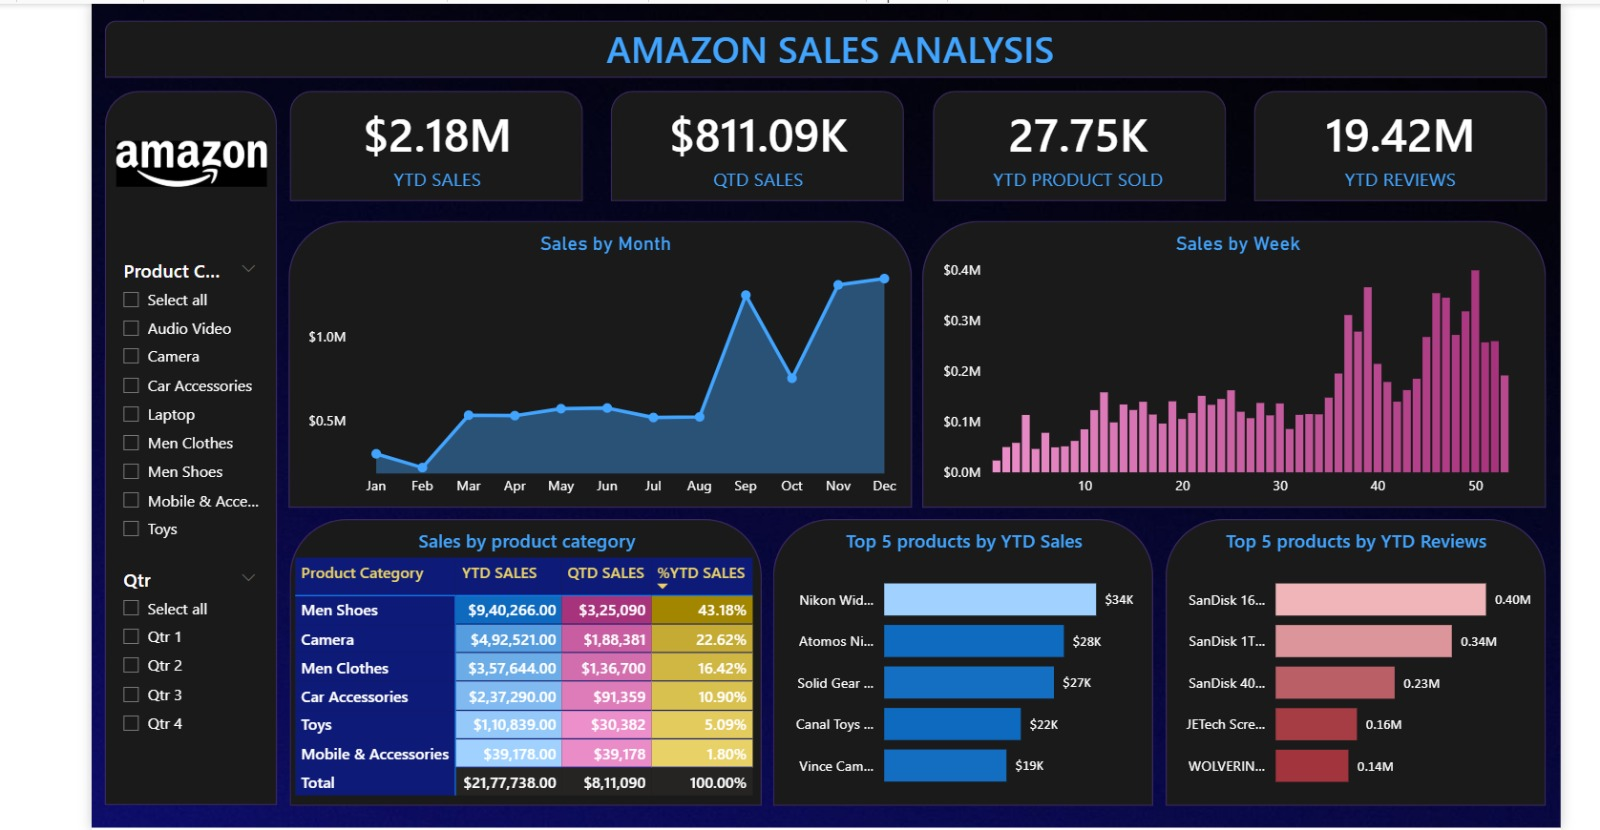

The page's visual inventory and layout, read from the dashboard file:
{"tool":"powerbi","page":{"name":"Page 1","canvas":[1280,720],"ordinal":0},"visuals":[{"type":"shape","box":[172.5,76.2,255.5,96.2],"z":0,"group":"g1"},{"type":"shape","box":[11.2,76.2,150,622.5],"z":0},{"type":"card","fields":{"Values":["Amazon_Data.YTD Sales"]},"box":[173.6,76.2,255.5,96.2],"z":1000,"group":"g1"},{"type":"shape","box":[11.2,15,1256.2,50],"z":1000},{"type":"shape","box":[452.3,76.2,255.5,96.2],"z":2000,"group":"g1"},{"type":"textbox","box":[442.5,12.5,401.2,53.8],"z":2000},{"type":"shape","box":[1012,76.2,255.5,96.2],"z":3000,"group":"g1"},{"type":"group","id":"g1","title":"Group 1","box":[172.5,76.2,1095,96.2],"z":3000},{"type":"shape","box":[732.2,76.2,255.5,96.2],"z":4000,"group":"g1"},{"type":"shape","box":[171.1,188.9,543,250],"z":4000},{"type":"card","fields":{"Values":["Amazon_Data.YTD REVIEWS"]},"box":[1012,76.2,255.5,96.2],"z":5000,"group":"g1"},{"type":"areaChart","title":"Sales by Month ","fields":{"Category":["Date Table.Month Name"],"Y":["Sum(Amazon_Data.Price(Dollar))"]},"box":[184.4,198.9,527.8,240],"z":5000},{"type":"card","fields":{"Values":["Amazon_Data.YTD PRODUCT SOLD"]},"box":[731.8,76.2,255.5,96.2],"z":6000,"group":"g1"},{"type":"shape","box":[723.3,188.9,543.3,250],"z":6000},{"type":"card","fields":{"Values":["Amazon_Data.QTD SALES"]},"box":[452.7,76.2,255.5,96.2],"z":7000,"group":"g1"},{"type":"columnChart","title":" Sales by Week","fields":{"Category":["Date Table.WEEK"],"Y":["Sum(Amazon_Data.Price(Dollar))"]},"box":[736.7,198.9,523.3,240],"z":7000},{"type":"shape","box":[172.2,448.9,411.1,250],"z":8000},{"type":"pivotTable","title":"Sales by product category","fields":{"Rows":["Amazon_Data.Product Category"],"Values":["Amazon_Data.YTD SALES1","Amazon_Data.QTD SALES","Amazon_Data.YTD SALES"]},"box":[172.2,456.7,413.3,242.2],"z":9000},{"type":"shape","box":[593.9,448.9,331.1,250],"z":10000},{"type":"shape","box":[935.6,448.9,331.1,250],"z":11000},{"type":"clusteredBarChart","title":"Top 5 products by YTD Sales","fields":{"Category":["Amazon_Data.Product Description"],"Y":["Amazon_Data.YTD SALES"]},"box":[594.4,456.7,331.1,242.2],"z":12000},{"type":"clusteredBarChart","title":"Top 5 products by YTD Reviews","fields":{"Category":["Amazon_Data.Product Description"],"Y":["Amazon_Data.YTD REVIEWS"]},"box":[936.2,456.2,330,242.5],"z":13000},{"type":"slicer","fields":{"Values":["Amazon_Data.Product Category"]},"box":[14.5,216.2,141.3,232.8],"z":14000},{"type":"slicer","fields":{"Values":["Date Table.Qtr"]},"box":[16.3,455.8,141.9,176.7],"z":15000},{"type":"image","box":[16.3,91.9,140.7,96.5],"z":16000}]}

Visuals, with their boxes on the page's 1280x720 design canvas (x1, y1, x2, y2). These are canvas units, not pixel positions in the 1600x830 screenshot, which may show the page scaled, cropped or inside an application window:
shape: <box>172,76,428,172</box>
shape: <box>11,76,161,699</box>
card - Amazon_Data.YTD Sales: <box>174,76,429,172</box>
shape: <box>11,15,1267,65</box>
shape: <box>452,76,708,172</box>
textbox: <box>442,12,844,66</box>
shape: <box>1012,76,1268,172</box>
"Group 1" group: <box>172,76,1268,172</box>
shape: <box>732,76,988,172</box>
shape: <box>171,189,714,439</box>
card - Amazon_Data.YTD REVIEWS: <box>1012,76,1268,172</box>
"Sales by Month " areaChart: <box>184,199,712,439</box>
card - Amazon_Data.YTD PRODUCT SOLD: <box>732,76,987,172</box>
shape: <box>723,189,1267,439</box>
card - Amazon_Data.QTD SALES: <box>453,76,708,172</box>
" Sales by Week" columnChart: <box>737,199,1260,439</box>
shape: <box>172,449,583,699</box>
"Sales by product category" pivotTable: <box>172,457,586,699</box>
shape: <box>594,449,925,699</box>
shape: <box>936,449,1267,699</box>
"Top 5 products by YTD Sales" clusteredBarChart: <box>594,457,926,699</box>
"Top 5 products by YTD Reviews" clusteredBarChart: <box>936,456,1266,699</box>
slicer - Amazon_Data.Product Category: <box>14,216,156,449</box>
slicer - Date Table.Qtr: <box>16,456,158,632</box>
image: <box>16,92,157,188</box>
